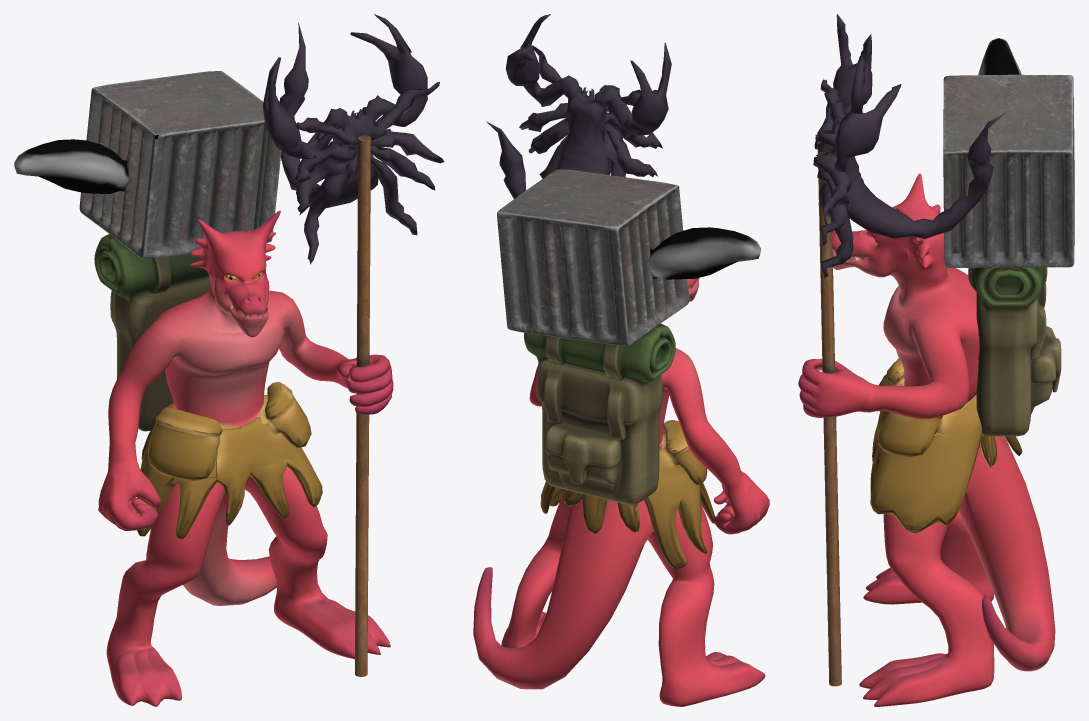
Rendered from MZ4250 - Kobold Inventor.glb.
The picture shows the model from 3 angles, left to right: view 1: azimuth 30°, elevation 25°; view 2: azimuth 150°, elevation 25°; view 3: azimuth 270°, elevation 25°; orthographic projection. The views are drawn at different scales.
Visible parts, largest first — view 1: Body.003; view 2: Body.003; view 3: Body.003.
Boxes of the visible parts, left/top/right/bottom form: Body.003: left=14, top=14, right=444, bottom=706; Body.003: left=473, top=14, right=769, bottom=706; Body.003: left=798, top=14, right=1074, bottom=706.
Bounding box in the file's own units: 56.86 × 102 × 39.75.
7 materials, 7 textured.
